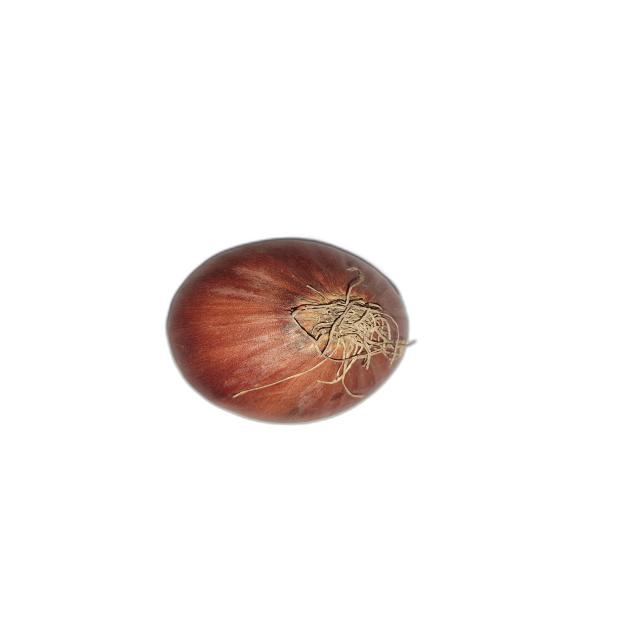onion: (165, 236, 418, 424)
